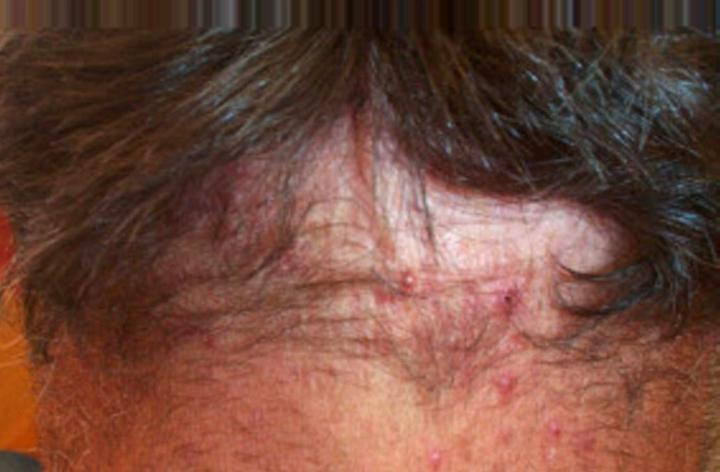Folliculitis: (366, 232, 546, 368), (197, 173, 339, 286), (468, 370, 542, 407), (402, 438, 475, 472), (529, 415, 572, 455)
